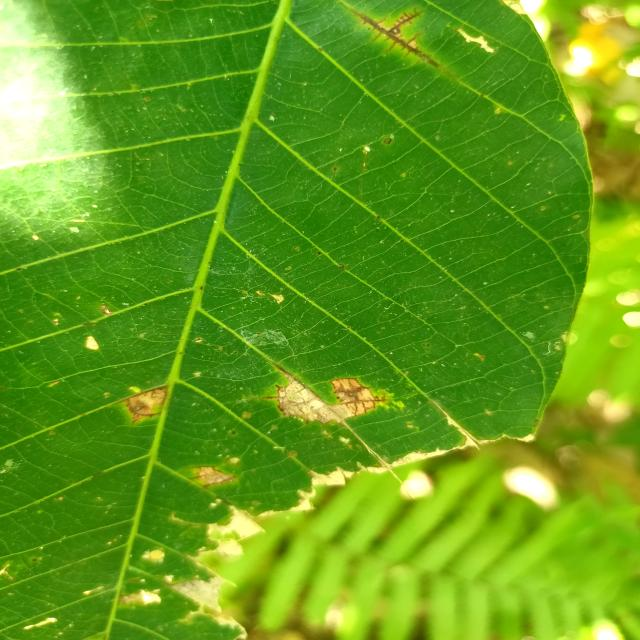Corynespora: (354, 10, 438, 67), (389, 8, 424, 32)
Leaf-Blight: (277, 374, 376, 423), (357, 449, 449, 473), (171, 574, 226, 612), (214, 506, 264, 538), (126, 389, 166, 423), (457, 28, 494, 54), (198, 466, 234, 486), (309, 467, 346, 486), (24, 617, 56, 630), (501, 0, 526, 15), (85, 336, 99, 350), (517, 433, 535, 443)
